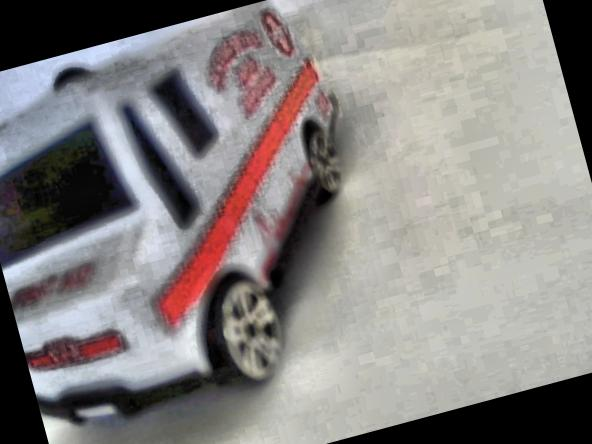ambulance: (0, 0, 403, 441)
